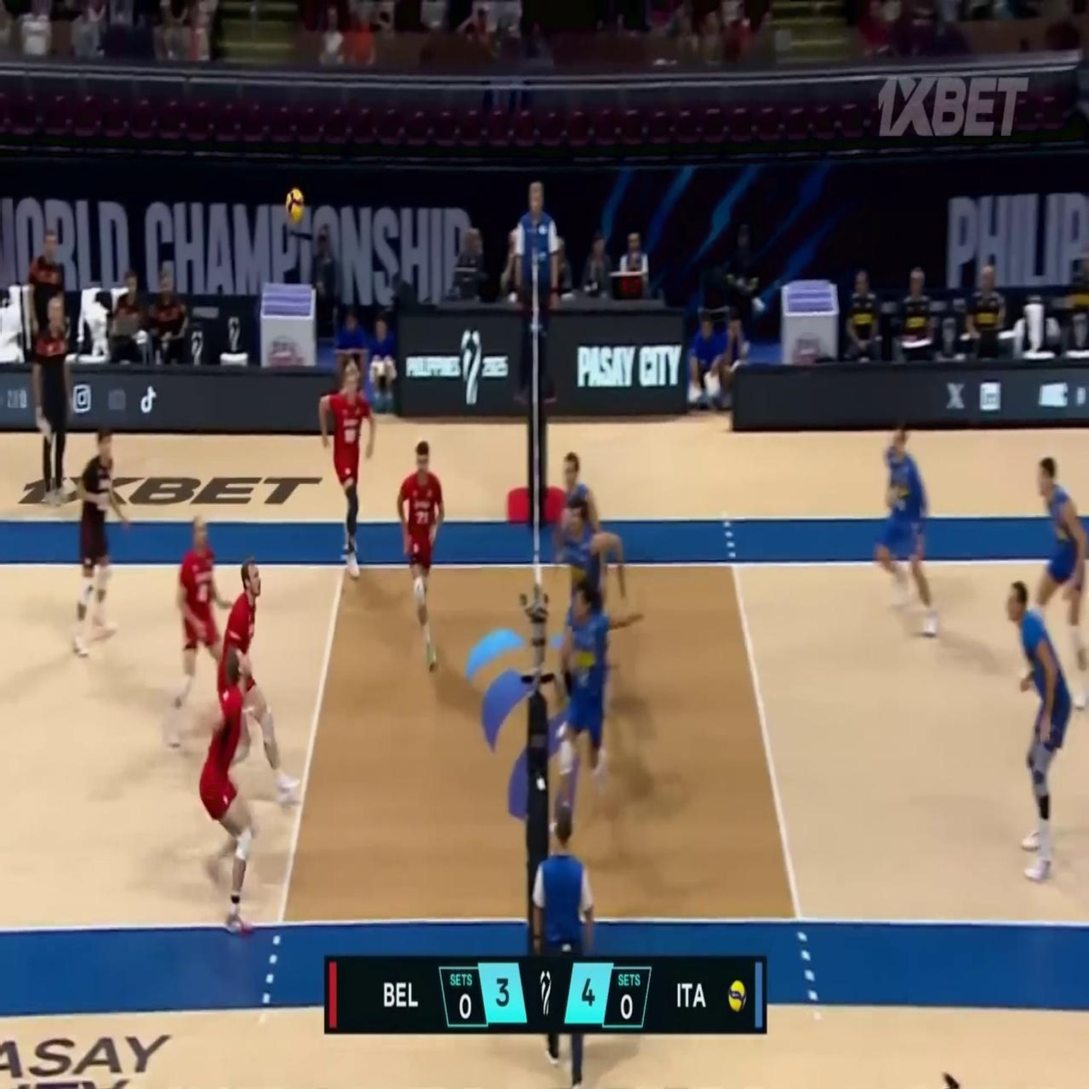ball: (286, 187, 303, 223)
